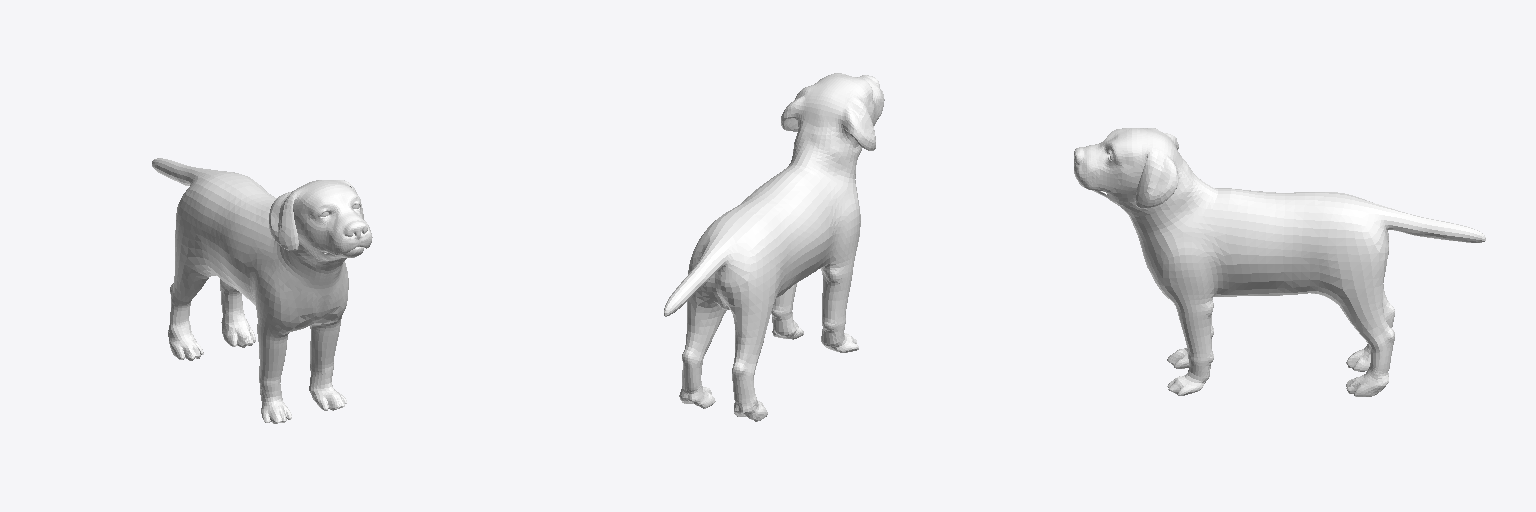
File: dog3.obj
3 views of the same model, side by side, from view 1: azimuth 30°, elevation 25°; view 2: azimuth 150°, elevation 25°; view 3: azimuth 270°, elevation 25° (orthographic).
Parts seen in each view (by area): view 1: Dog_body.001; view 2: Dog_body.001; view 3: Dog_body.001.
Boxes of the visible parts, <box> form: Dog_body.001: <box>152,158,372,423</box>; Dog_body.001: <box>664,73,884,421</box>; Dog_body.001: <box>1074,128,1485,396</box>.
Size of the model in its own units: 0.2517 by 0.6695 by 1.01.